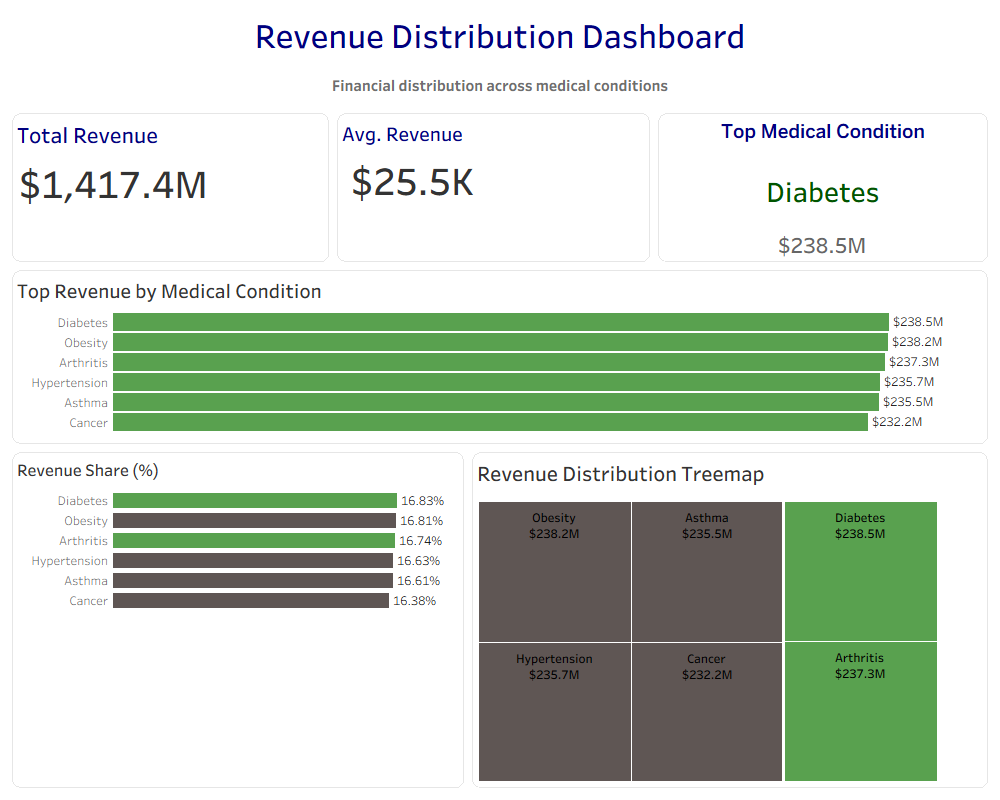

This screenshot's page, from the dashboard's own definition file:
{"tool":"tableau","page":{"name":"Revenue Distribution Dashboard","canvas":[1000,800],"ordinal":4},"visuals":[{"type":"text","box":[8,8,984,54]},{"type":"text","box":[8,62,984,47]},{"type":"worksheet","title":"KPI_Total_Revenue_V2","mark":"Text","box":[8,109,325,157]},{"type":"worksheet","title":"KPI_Average_Billing_V2","mark":"Automatic","box":[333,109,321,157]},{"type":"worksheet","title":"KPI_Top_Medical_Condition","mark":"Text","box":[654,109,338,157]},{"type":"worksheet","title":"CH_Revenue_Distribution_Ranking","mark":"Bar","rows":["medical_condition"],"cols":["billing_amount"],"box":[8,266,984,182]},{"type":"worksheet","title":"CH_Revenue_Contribution_Percent_Final","mark":"Automatic","rows":["medical_condition"],"cols":["billing_amount"],"box":[8,448,460,344]},{"type":"worksheet","title":"CH_Revenue_Treemap","mark":"Automatic","box":[468,448,524,344]}]}

Visuals, with their boxes in screenshot pixels (x1, y1, x2, y2), scaled from the page's 1000x800 canvas onto the 1000x800 screenshot:
text: <box>8,8,992,62</box>
text: <box>8,62,992,109</box>
"KPI_Total_Revenue_V2" worksheet (Text marks): <box>8,109,333,266</box>
"KPI_Average_Billing_V2" worksheet: <box>333,109,654,266</box>
"KPI_Top_Medical_Condition" worksheet (Text marks): <box>654,109,992,266</box>
"CH_Revenue_Distribution_Ranking" worksheet (Bar marks): <box>8,266,992,448</box>
"CH_Revenue_Contribution_Percent_Final" worksheet: <box>8,448,468,792</box>
"CH_Revenue_Treemap" worksheet: <box>468,448,992,792</box>
